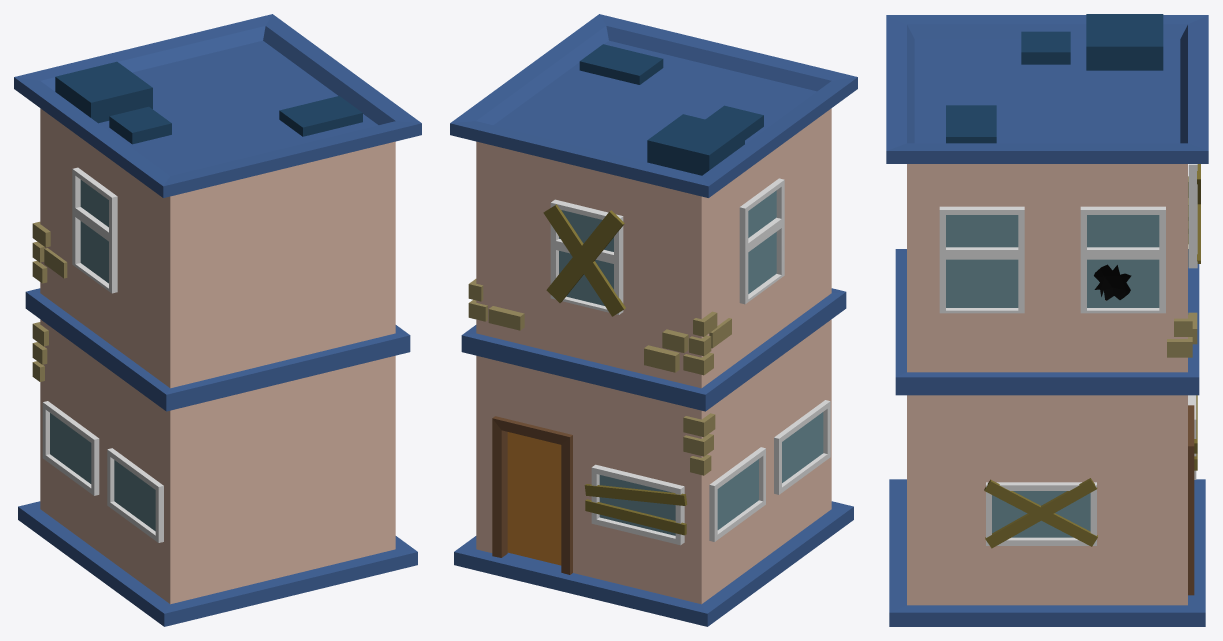
Rendered from imeuble apo 1.fbx.
3 renders of one model, left to right at view 1: azimuth 30°, elevation 25°; view 2: azimuth 150°, elevation 25°; view 3: azimuth 270°, elevation 25°, orthographic. The views are drawn at different scales.
Visible parts, largest first — view 1: Cube, Cube.013; view 2: Cube, Cube.013, Cube.002, Cube.003, Cube.005, Cube.004; view 3: Cube, Cube.016, Cube.017, Cube.013.
Boxes of the visible parts, left/top/right/bottom form: Cube: left=14, top=14, right=421, bottom=626; Cube.013: left=32, top=221, right=67, bottom=381; Cube: left=450, top=14, right=857, bottom=626; Cube.013: left=468, top=279, right=731, bottom=475; Cube.002: left=543, top=204, right=625, bottom=316; Cube.003: left=546, top=210, right=624, bottom=302; Cube.005: left=585, top=499, right=686, bottom=535; Cube.004: left=584, top=484, right=687, bottom=505; Cube: left=886, top=14, right=1208, bottom=626; Cube.016: left=984, top=479, right=1097, bottom=546; Cube.017: left=985, top=478, right=1097, bottom=548; Cube.013: left=1167, top=176, right=1197, bottom=357.
Bounding box in the file's own units: 799 × 1337 × 799.
